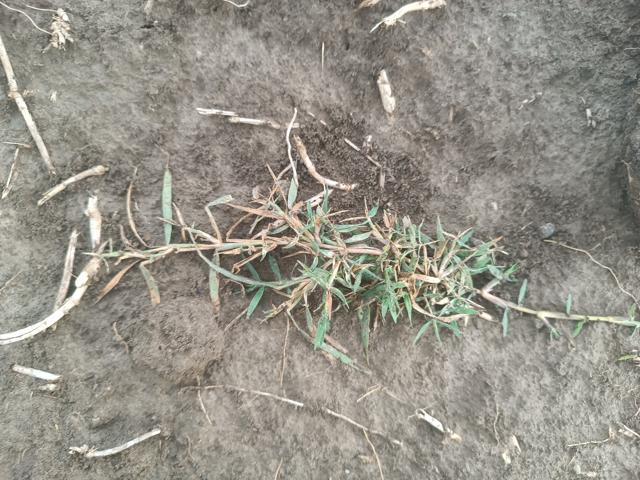bad weed: (14, 166, 626, 361)
